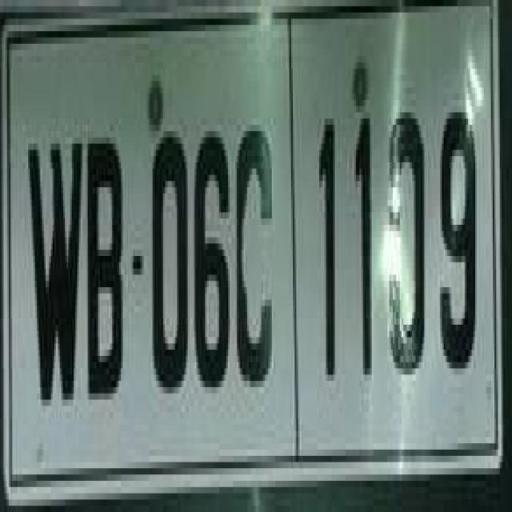number plate: (19, 0, 512, 499)
